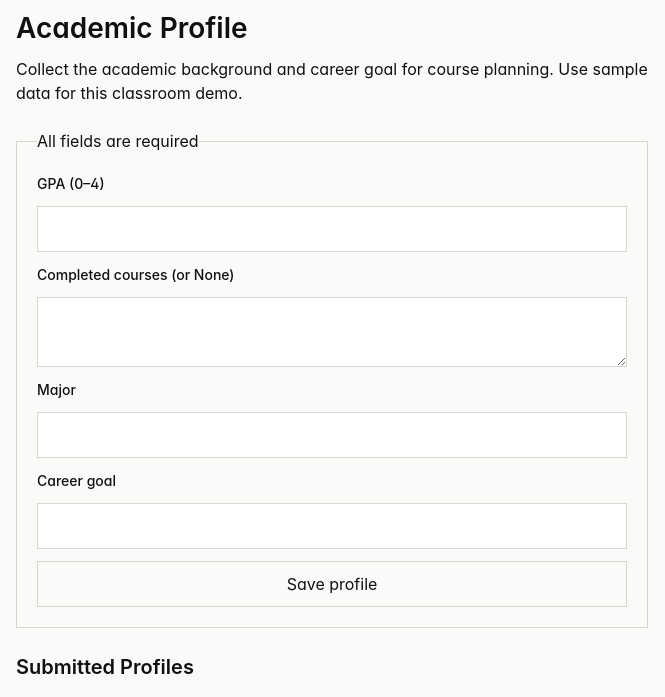
it: SubmissionsPage — the create form › an API failure surfaces the service's message instead of a saved confirmation
The width and height of the screenshot is (665, 697).
Type "3.5" into the number field labelled "GPA (0–4)".
click(332, 229); type("3.5")  # box x1=37 y1=206 x2=627 y2=252
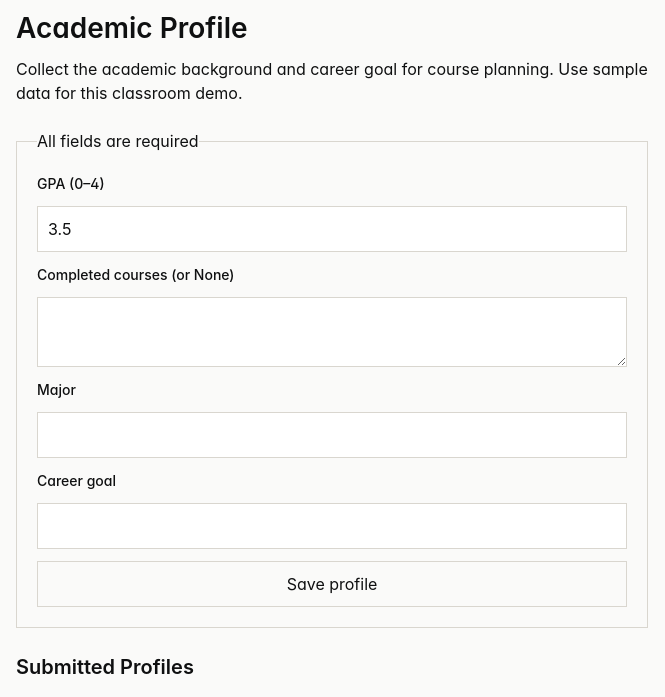
Type "CMPS 1500" into the text box labelled "Completed courses (or None)".
click(332, 332); type("CMPS 1500")  # box x1=37 y1=297 x2=627 y2=367
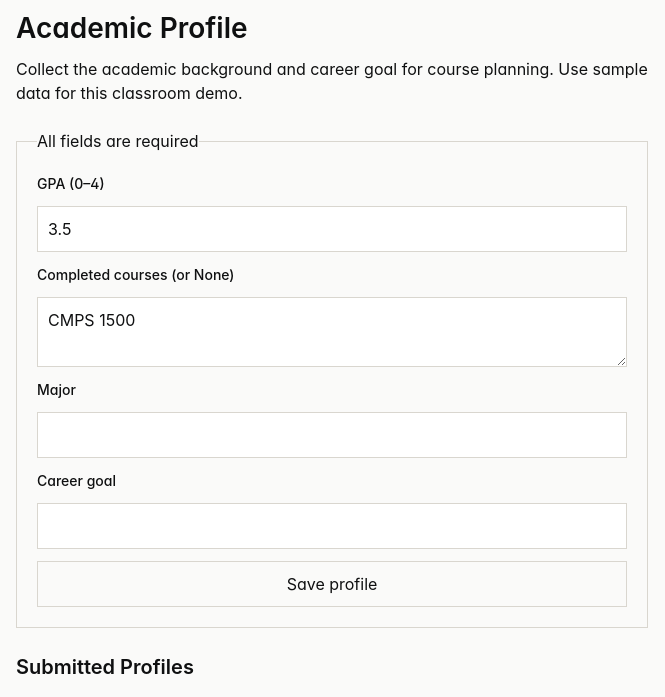
Type "Computer Science" into the field labelled "Major".
click(332, 435); type("Computer Science")  # box x1=37 y1=412 x2=627 y2=458
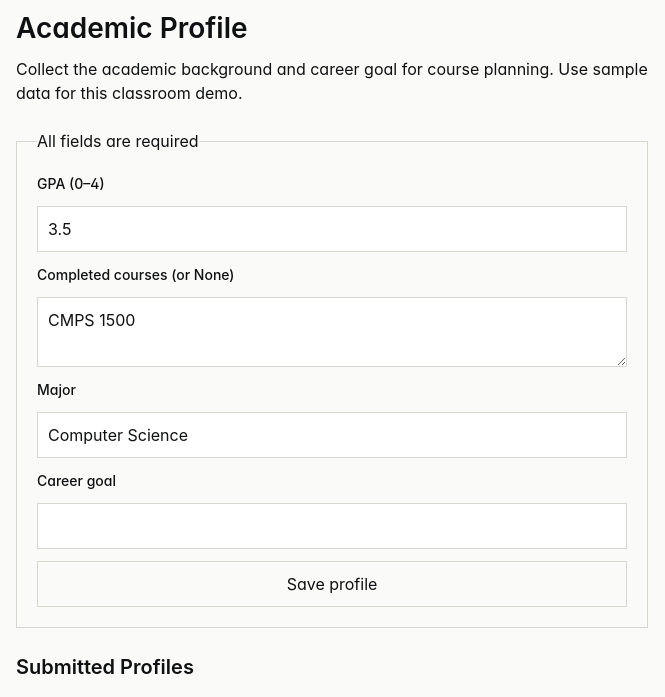
Type "Data analyst" into the field labelled "Career goal".
click(332, 526); type("Data analyst")  # box x1=37 y1=503 x2=627 y2=549
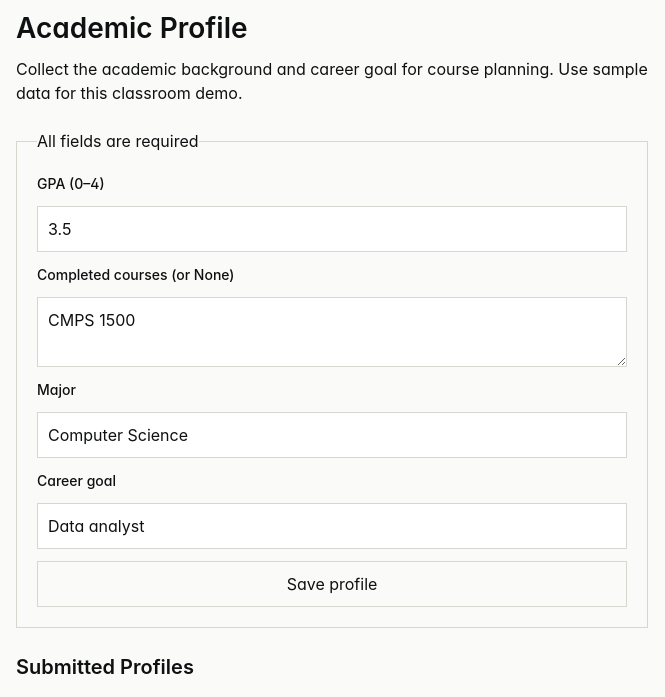
Click the button "Save profile".
click(332, 584)  # box x1=37 y1=561 x2=627 y2=607
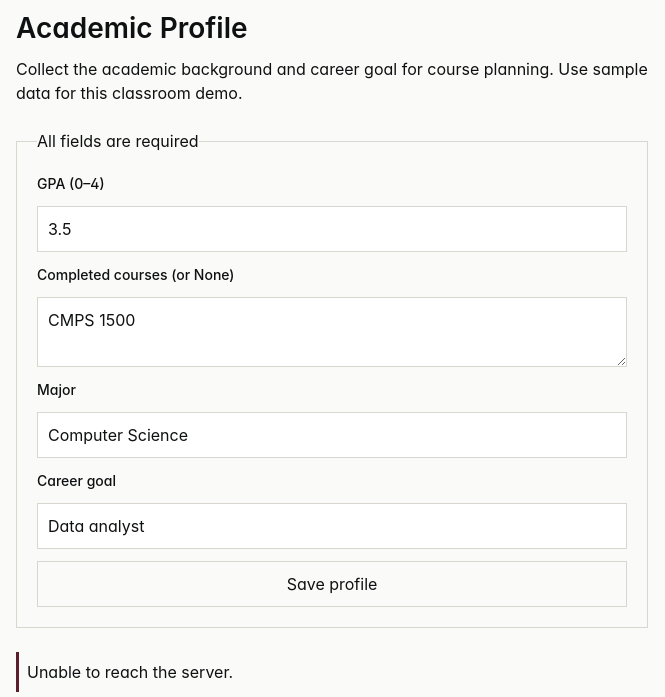
Result: the text "Unable to reach the server." is shown at x1=16 y1=652 x2=648 y2=692
